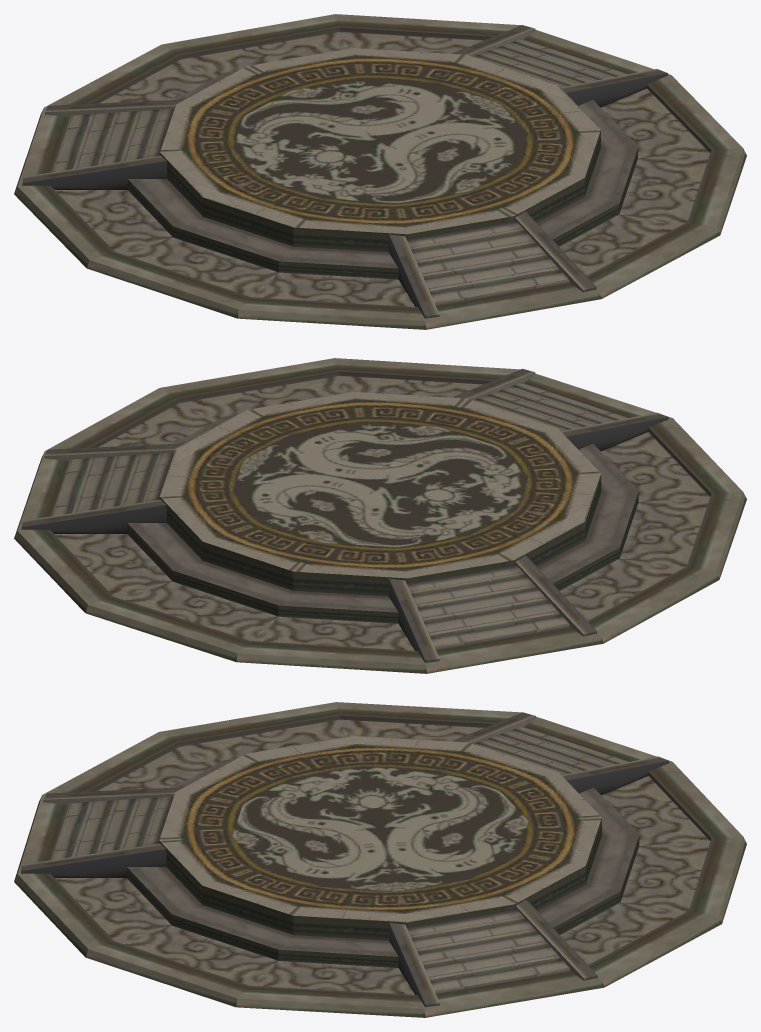
The model's file is Yland3_bj_12 Yland3.FBX.
3 views of the same model, one above another, from view 1: azimuth 30°, elevation 25°; view 2: azimuth 150°, elevation 25°; view 3: azimuth 270°, elevation 25° (orthographic).
Visible parts, largest first — view 1: Yland3_bj_12 Yland3; view 2: Yland3_bj_12 Yland3; view 3: Yland3_bj_12 Yland3.
Boxes of the visible parts, x1,y1,x2,y2 form: Yland3_bj_12 Yland3: (14,14,746,329); Yland3_bj_12 Yland3: (14,358,746,673); Yland3_bj_12 Yland3: (14,702,746,1017).
Bounding box in the file's own units: 165 × 8.58 × 165.
